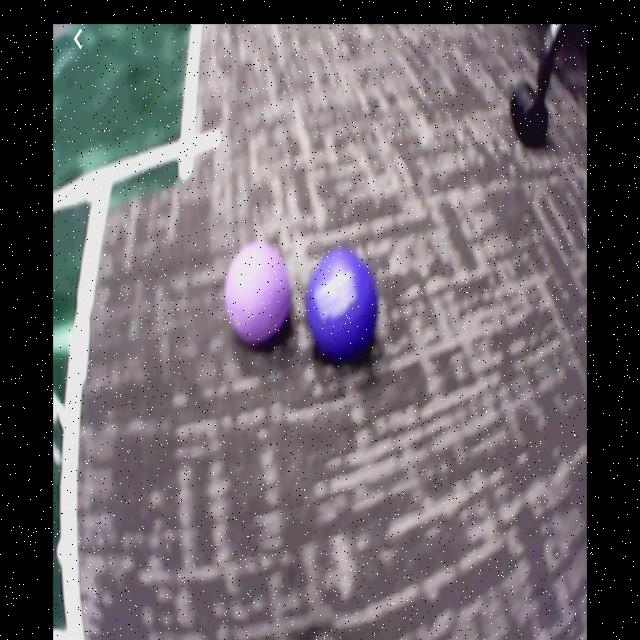ball: (309, 249, 381, 363), (227, 245, 291, 345)
